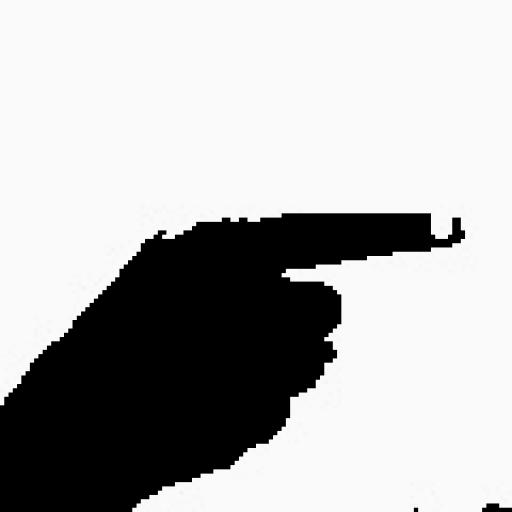index_left: (0, 210, 467, 433)
